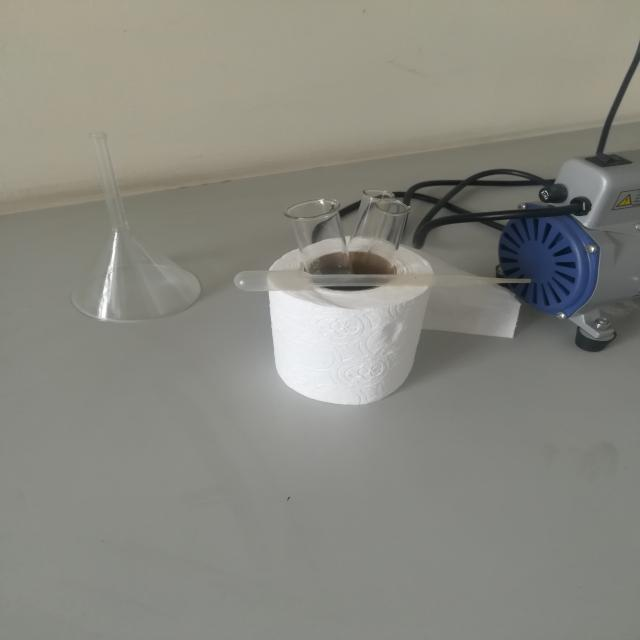Pipette: (220, 253, 550, 329)
